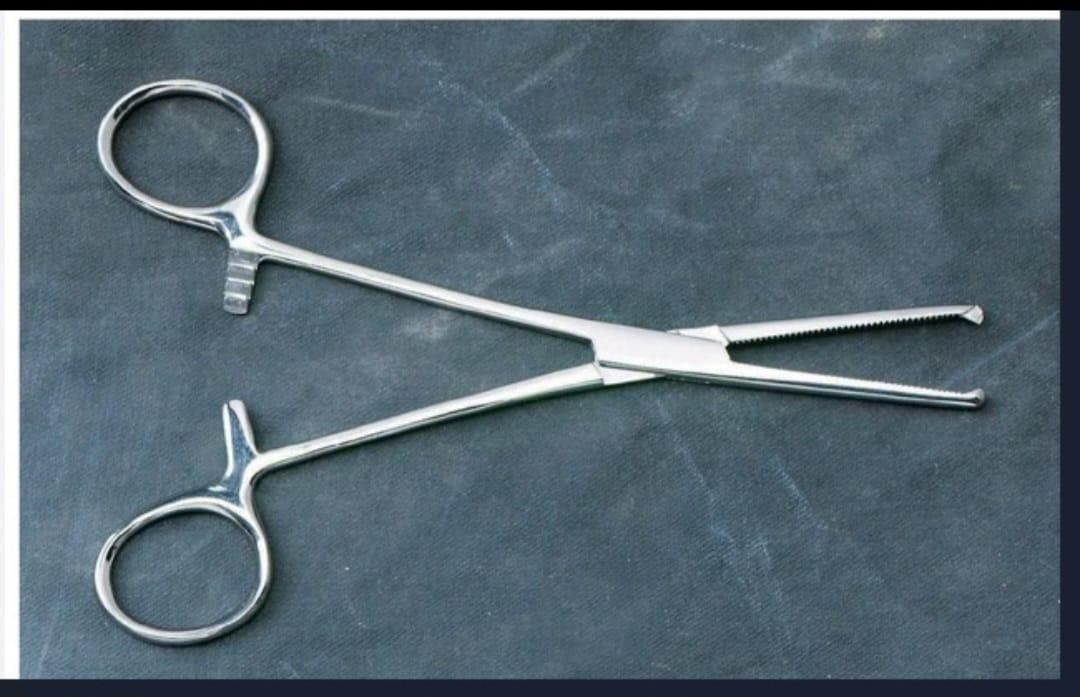Kocher Forceps: (89, 70, 1004, 651)
